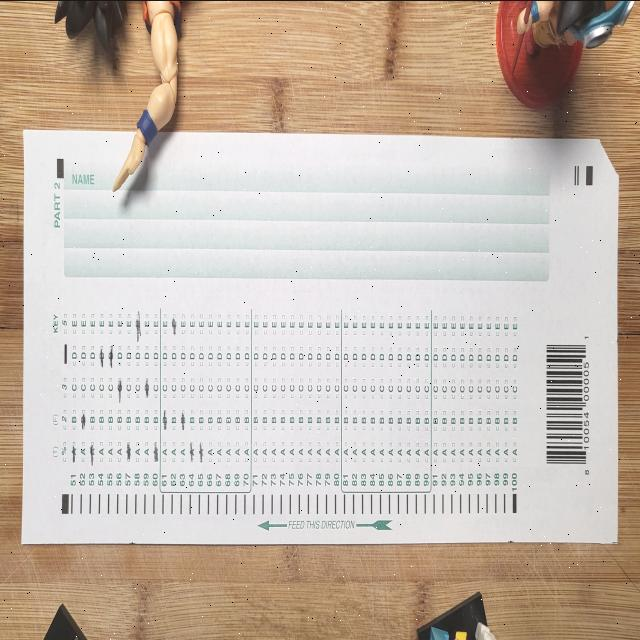scantron_back: (20, 126, 619, 542)
